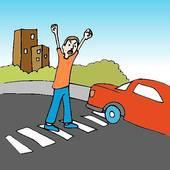car: (87, 73, 170, 138)
person: (41, 23, 95, 132)
